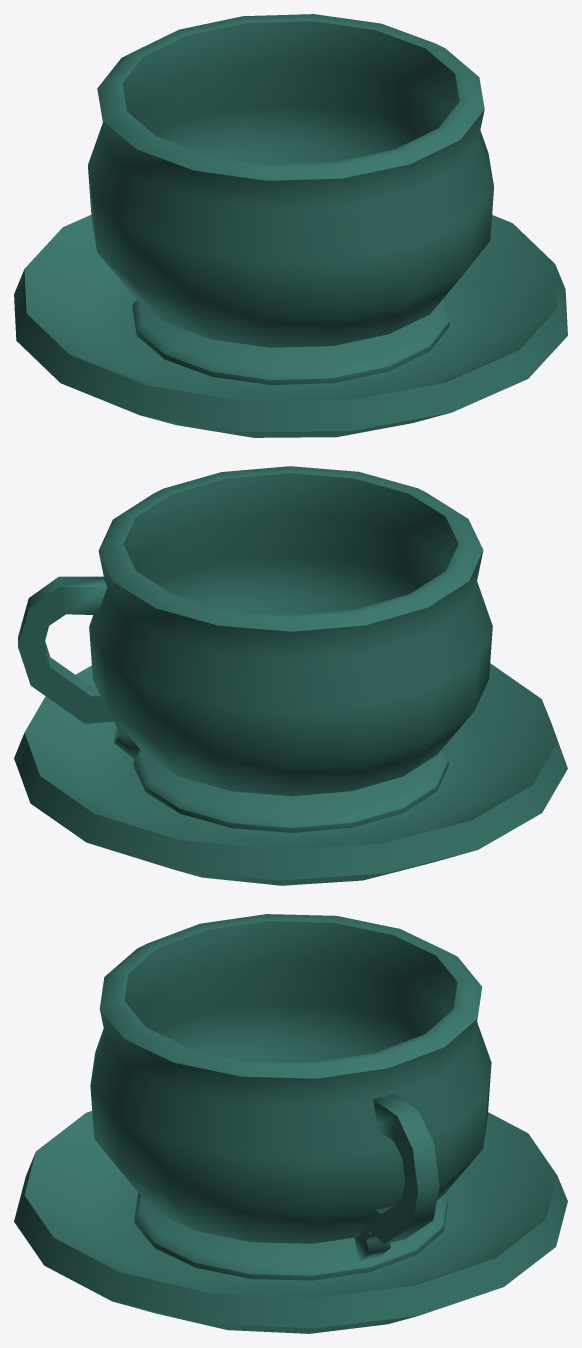
File: TeaCup_low.fbx
3 renders of one model, top to bottom at view 1: azimuth 30°, elevation 25°; view 2: azimuth 150°, elevation 25°; view 3: azimuth 270°, elevation 25°, orthographic.
Parts seen in each view (by area): view 1: TeaCup_low; view 2: TeaCup_low; view 3: TeaCup_low.
Part boxes in pixels (<box>): TeaCup_low: <box>14,14,567,437</box>; TeaCup_low: <box>14,466,567,885</box>; TeaCup_low: <box>14,914,567,1333</box>.
Bounding box in the file's own units: 187 × 95.29 × 187.
